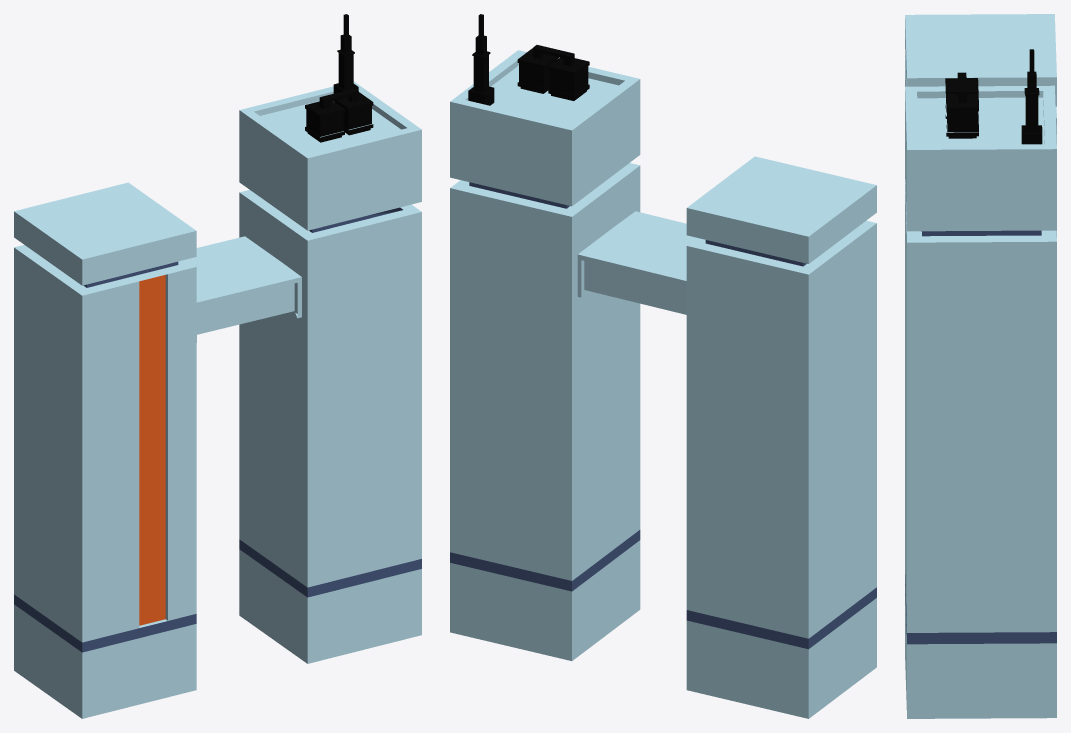
3 views of the same model, side by side, from view 1: azimuth 30°, elevation 25°; view 2: azimuth 150°, elevation 25°; view 3: azimuth 270°, elevation 25° (orthographic). The views are drawn at different scales.
Parts seen in each view (by area): view 1: Highrise_11.001; view 2: Highrise_11.001; view 3: Highrise_11.001.
Boxes of the visible parts, x1,y1,x2,y2 form: Highrise_11.001: (14,14,421,718); Highrise_11.001: (450,14,876,718); Highrise_11.001: (905,14,1056,718).
Size of the model in its own units: 1008 by 1645 by 344.
